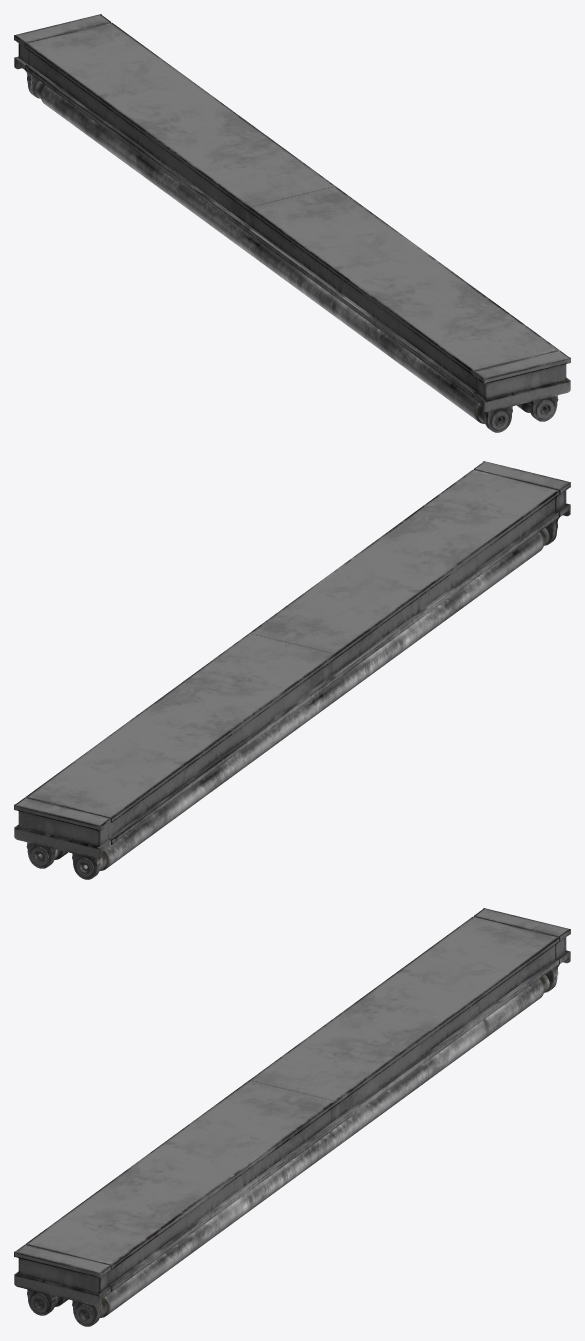
The model's file is tube light.fbx.
3 renders of one model, top to bottom at view 1: azimuth 30°, elevation 25°; view 2: azimuth 150°, elevation 25°; view 3: azimuth 330°, elevation 25°, orthographic.
Visible parts, largest first — view 1: Fluorescent_Light; view 2: Fluorescent_Light; view 3: Fluorescent_Light.
Part boxes in pixels (x1,y1,x2,y2): Fluorescent_Light: (14,14,570,432); Fluorescent_Light: (14,461,570,879); Fluorescent_Light: (14,908,570,1326).
Bounding box in the file's own units: 13.44 × 9.21 × 126.
1 material, 1 textured.
